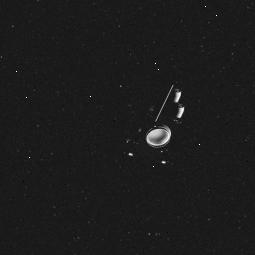proba_3_csc: (106, 68, 193, 172)
